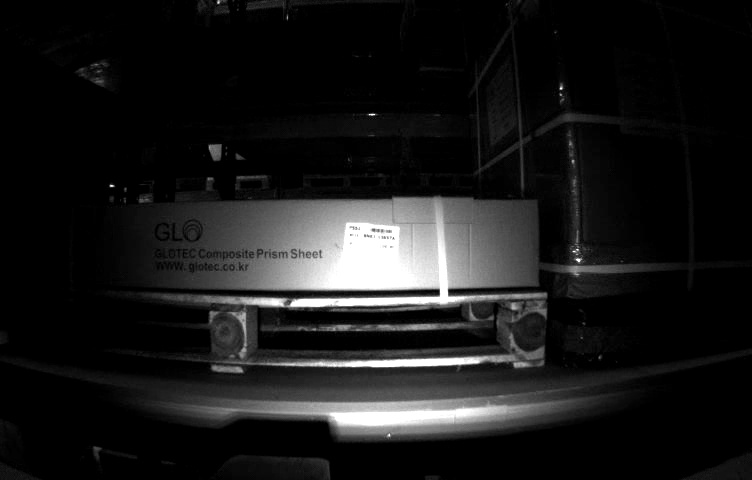True Barcode: (344, 220, 400, 273)
